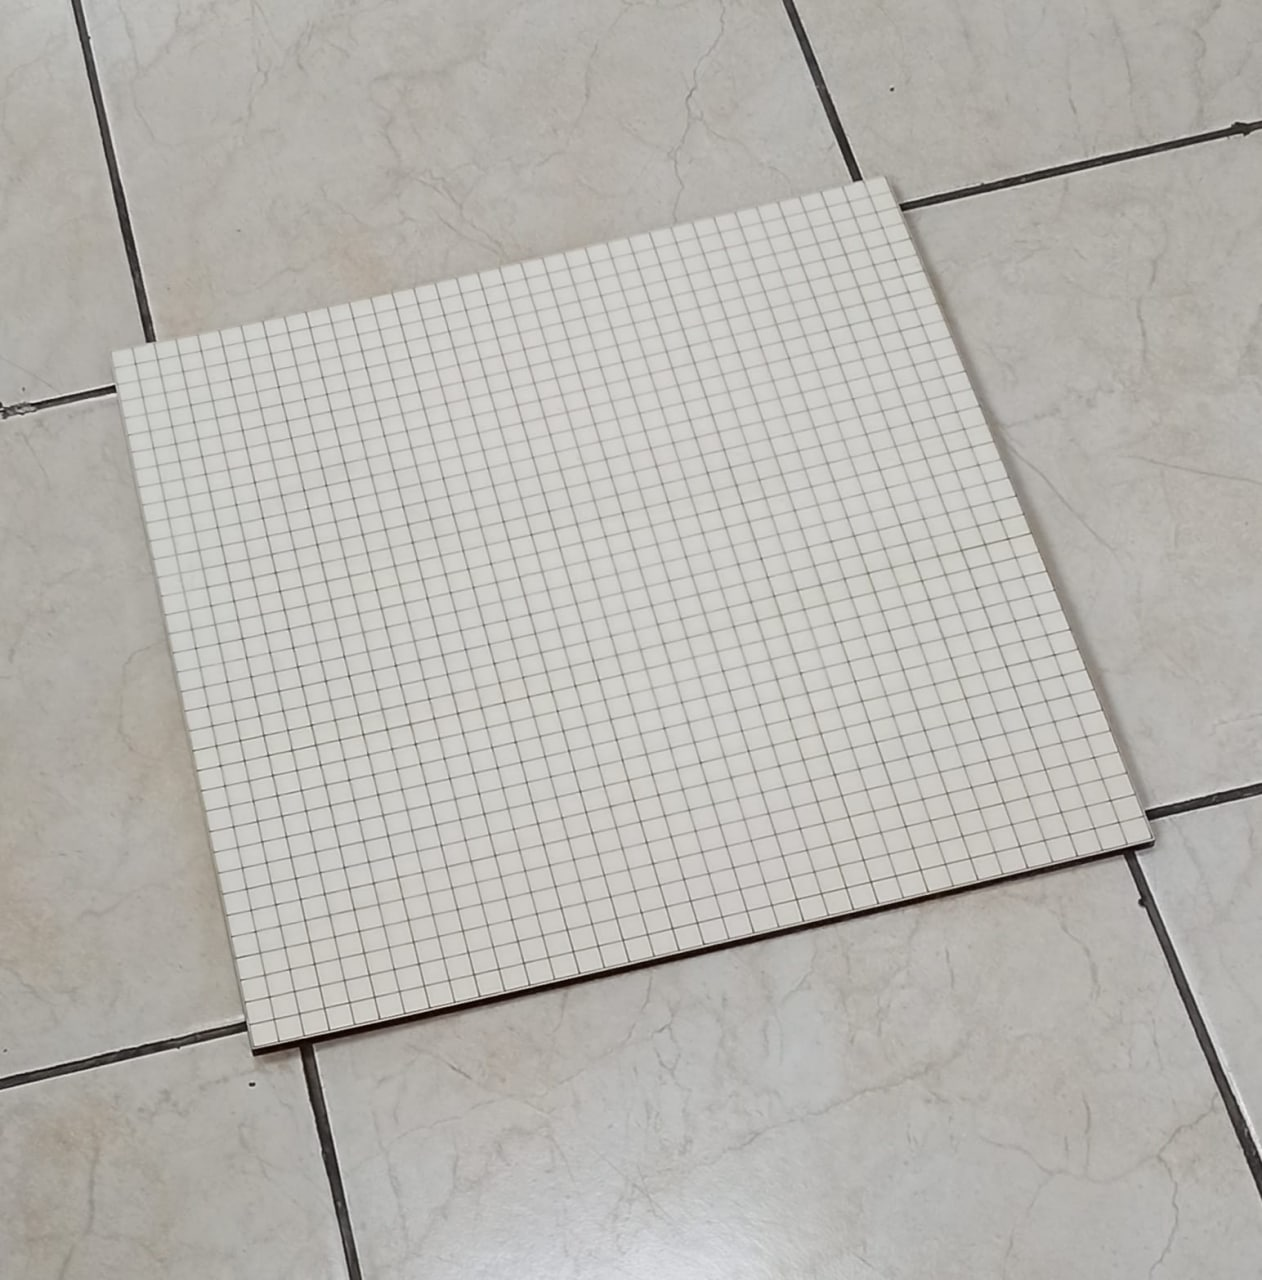grid: (94, 172, 1165, 1067)
